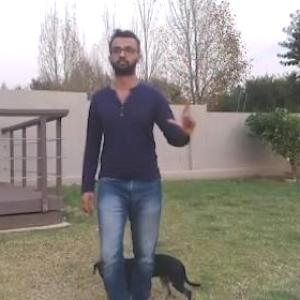land_hand: (166, 91, 200, 136)
